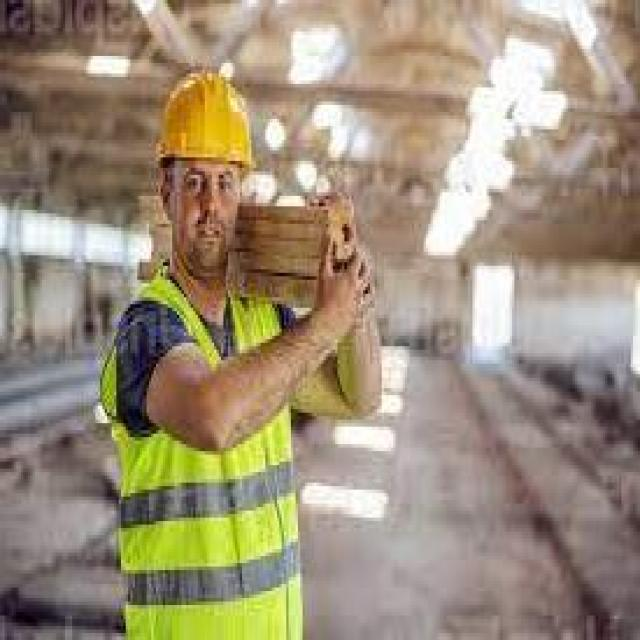Reflective-Jacket: (103, 276, 314, 633)
Safety-Helmet: (149, 63, 261, 189)
